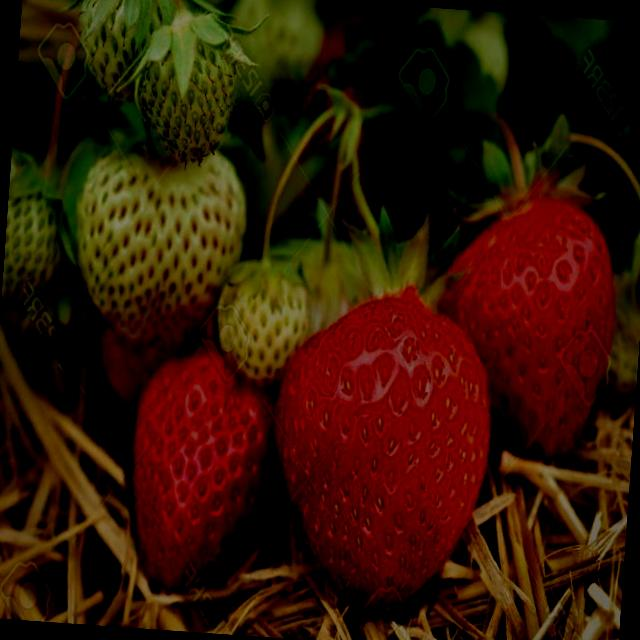Strawberry: (260, 279, 500, 616), (428, 177, 620, 456), (122, 342, 291, 594), (68, 140, 250, 348), (132, 12, 238, 165), (212, 258, 308, 386), (72, 0, 176, 103), (0, 170, 66, 302)
